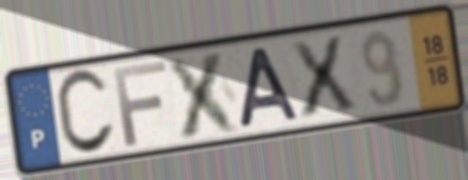9: (359, 27, 407, 111)
A: (235, 44, 302, 131)
C: (52, 66, 119, 160)
F: (110, 57, 170, 150)
X: (163, 46, 246, 142), (285, 32, 360, 122)
